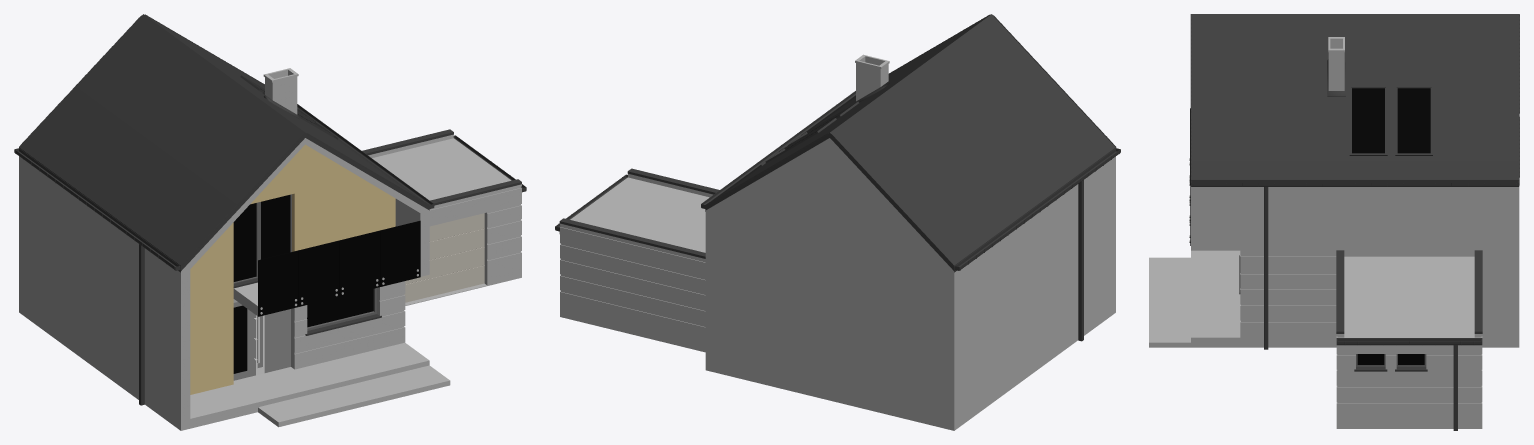
File: Maison_006_Export_babylon.gltf
3 views of the same model, side by side, from view 1: azimuth 30°, elevation 25°; view 2: azimuth 150°, elevation 25°; view 3: azimuth 270°, elevation 25° (orthographic).
Parts seen in each view (by area): view 1: maison, polySurface14, garage_porte, Porte_rdc, Maison_Goutiere, polySurface13, polySurface10, polySurface11, polySurface12, fenetre_balcon_Grande_Vitre, pasted__Petite_Vitre, fenetre_salon_Grande_Vitre (+3 smaller); view 2: maison, polySurface14, Maison_Goutiere, polySurface9, Cheminee, polySurface21; view 3: maison, polySurface14, Maison_Goutiere, Vasisdas2, Vasisdas3, Garage_Garage_goutiere_Garage_goutiere, polySurface9, Cheminee, Vasisdas, Vasisdas1, polySurface21.
Boxes of the visible parts, <box> form: maison: <box>19,134,521,430</box>; polySurface14: <box>19,14,429,270</box>; garage_porte: <box>404,213,484,302</box>; Porte_rdc: <box>233,302,290,380</box>; Maison_Goutiere: <box>14,104,434,405</box>; polySurface13: <box>298,240,339,306</box>; polySurface10: <box>380,220,420,286</box>; polySurface11: <box>258,250,298,316</box>; polySurface12: <box>339,230,379,296</box>; fenetre_balcon_Grande_Vitre: <box>261,195,289,259</box>; pasted__Petite_Vitre: <box>233,203,256,281</box>; fenetre_salon_Grande_Vitre: <box>307,289,373,327</box>; maison: <box>560,138,1115,430</box>; polySurface14: <box>705,14,1115,270</box>; Maison_Goutiere: <box>701,91,1120,341</box>; polySurface9: <box>559,168,719,258</box>; Cheminee: <box>855,54,889,101</box>; polySurface21: <box>705,14,1115,266</box>; maison: <box>1149,187,1519,428</box>; polySurface14: <box>1190,14,1519,185</box>; Maison_Goutiere: <box>1191,179,1519,349</box>; Vasisdas2: <box>1397,88,1430,153</box>; Vasisdas3: <box>1352,88,1384,153</box>; Garage_Garage_goutiere_Garage_goutiere: <box>1336,338,1482,430</box>; polySurface9: <box>1336,250,1482,333</box>; Cheminee: <box>1328,37,1344,90</box>; Vasisdas: <box>1349,85,1387,155</box>; Vasisdas1: <box>1395,85,1432,155</box>; polySurface21: <box>1190,14,1519,179</box>.
Bounding box in the file's own units: 5.64 × 3.41 × 4.21.
